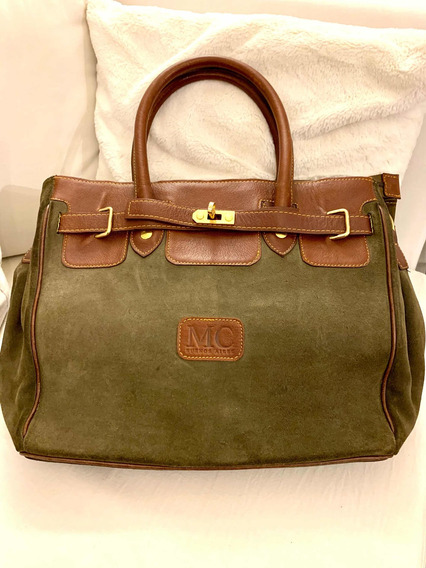cartera: (1, 57, 426, 473)
